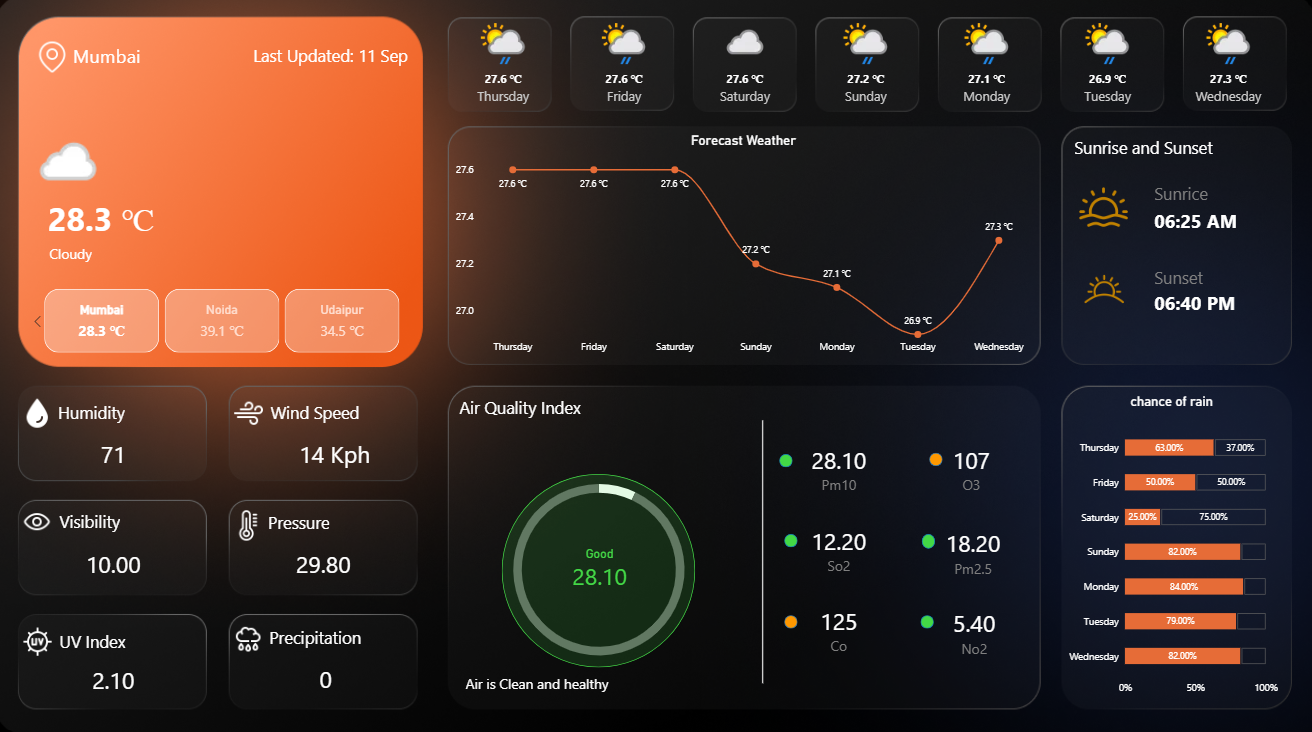

Layout of this report page (visuals, bound fields, positions):
{"tool":"powerbi","page":{"name":"Page 1","canvas":[1920,1080],"ordinal":0},"visuals":[{"type":"donutChart","fields":{"Y":["Sum(Current.current.air_quality.pm10)","_Measures.Left_Value_Pm10"]},"box":[684.6,665,386,340],"z":0},{"type":"shape","box":[737,695,280,280],"z":1000},{"type":"advancedSlicerVisual","fields":{"Values":["Locations.location.name"]},"box":[54.9,426.3,555.9,92.3],"z":2000},{"type":"shape","box":[79.1,272.5,232.9,101.1],"z":3000},{"type":"shape","box":[81.3,349.4,230.7,52.7],"z":4000},{"type":"shape","box":[352,63.8,249.5,50.3],"z":5000},{"type":"shape","box":[116.5,63.7,230.7,50],"z":6000},{"type":"image","box":[63.8,67.9,45.3,45],"z":7000},{"type":"cardVisual","fields":{"Data":["Min(Current.current.condition.icon)"]},"box":[50.5,109.9,116.5,178],"z":8000},{"type":"image","box":[41.7,584.5,45,45],"z":9000},{"type":"image","box":[347.2,584.5,45,45],"z":10000},{"type":"image","box":[41.7,742.7,43.9,43.9],"z":11000},{"type":"image","box":[347.2,747.1,43.9,43.9],"z":12000},{"type":"image","box":[22,916.3,85.7,43.9],"z":13000},{"type":"image","box":[347.2,911.9,43.9,43.9],"z":14000},{"type":"shape","box":[94.5,584.5,213.1,43.9],"z":15000},{"type":"shape","box":[402.1,584.5,213.1,43.9],"z":16000},{"type":"shape","box":[96.7,742.7,213.1,43.9],"z":17000},{"type":"shape","box":[397.7,742.7,214,45],"z":18000},{"type":"shape","box":[96.7,916.3,213.1,43.9],"z":19000},{"type":"shape","box":[399.9,909.7,213.1,43.9],"z":20000},{"type":"cardVisual","fields":{"Data":["Sum(Current.current.humidity)"]},"box":[94.5,628.4,160,75],"z":21000},{"type":"cardVisual","fields":{"Data":["_Measures.Wind_Speed"]},"box":[402.1,628.4,186,75],"z":22000},{"type":"cardVisual","fields":{"Data":["Sum(Current.current.vis_km)"]},"box":[94.5,786.6,160,75],"z":23000},{"type":"cardVisual","fields":{"Data":["Sum(Current.current.pressure_in)"]},"box":[397.7,786.6,160,75],"z":24000},{"type":"cardVisual","fields":{"Data":["Sum(Current.current.uv)"]},"box":[94.5,955.8,160,75],"z":25000},{"type":"cardVisual","fields":{"Data":["Sum(Current.current.precip_in)"]},"box":[402.1,953.6,160,75],"z":26000},{"type":"advancedSlicerVisual","fields":{"Values":["Forcast_Day.Day_Name"],"Label":["Sum(Forcast_Day.forecast.forecastday.day.avgtemp_c)"]},"box":[654.8,30.8,1219.5,138.4],"z":27000},{"type":"lineChart","title":"Forecast Weather","fields":{"Y":["Sum(Forcast_Day.forecast.forecastday.day.avgtemp_c)"],"Category":["Forecast_Day.Day_Name"]},"box":[670,201,833.6,325.1],"z":28000},{"type":"shape","box":[1565.4,201.4,213.4,43.9],"z":29000},{"type":"shape","box":[1681.1,295.1,181.5,63.8],"z":30000},{"type":"shape","box":[1681.1,414.8,181.5,63.8],"z":31000},{"type":"shape","box":[1681.1,257.3,181.5,63.8],"z":32000},{"type":"shape","box":[1681.1,378.9,181.5,63.8],"z":33000},{"type":"image","box":[1573.4,273.2,70,70],"z":34000},{"type":"image","box":[1571.4,388.9,75.8,75.8],"z":35000},{"type":"hundredPercentStackedBarChart","title":"chance of rain ","fields":{"Category":["Forecast_Day.Day_Name"],"Y":["Sum(Forecast_Day.forecast.forecastday.day.daily_chance_of_rain)","_Measures.Left_Value_Rain"]},"box":[1552.7,579.1,307.6,439.7],"z":36000},{"type":"shape","box":[675,577.3,213.5,43.4],"z":37000},{"type":"cardVisual","fields":{"Data":["Sum(Current.current.air_quality.pm10)"]},"box":[1154.6,647.9,140,80],"z":38000},{"type":"cardVisual","fields":{"Data":["Sum(Current.current.air_quality.o3)"]},"box":[1346,647.9,140,80],"z":39000},{"type":"cardVisual","fields":{"Data":["Sum(Current.current.air_quality.so2)"]},"box":[1154.6,765.8,140,80],"z":40000},{"type":"cardVisual","fields":{"Data":["Sum(Current.current.air_quality.pm2_5)"]},"box":[1346,769.7,145,80],"z":41000},{"type":"cardVisual","fields":{"Data":["Sum(Current.current.air_quality.co)"]},"box":[1154.6,881.9,140,80],"z":42000},{"type":"cardVisual","fields":{"Data":["Sum(Current.current.air_quality.no2)"]},"box":[1349.9,885.7,141.2,80],"z":43000},{"type":"shape","box":[1139.1,665.3,19.3,19.3],"z":44000},{"type":"shape","box":[1145,782,19.3,19.3],"z":45000},{"type":"shape","box":[1145,899,19.3,19.3],"z":46000},{"type":"shape","box":[1355,665,19.3,19.3],"z":47000},{"type":"shape","box":[1344.1,781.3,19.3,21.3],"z":48000},{"type":"shape","box":[1342.1,899.3,19.3,19.3],"z":49000},{"type":"shape","box":[1025,616.9,179.9,381],"z":50000},{"type":"cardVisual","fields":{"Data":["Sum(Current.current.air_quality.pm10)"]},"box":[810.3,800.6,135,77],"z":51000},{"type":"shape","box":[684.6,976.6,417.7,42.5],"z":52000}]}

Visuals, with their boxes in screenshot pixels (x1, y1, x2, y2), scaled from the page's 1920x1080 canvas onto the 1312x732 screenshot:
donutChart - Sum(Current.current.air_quality.pm10) x _Measures.Left_Value_Pm10: BBox(468, 451, 732, 681)
shape: BBox(504, 471, 695, 661)
advancedSlicerVisual - Locations.location.name: BBox(38, 289, 417, 351)
shape: BBox(54, 185, 213, 253)
shape: BBox(56, 237, 213, 273)
shape: BBox(241, 43, 411, 77)
shape: BBox(80, 43, 237, 77)
image: BBox(44, 46, 75, 77)
cardVisual - Min(Current.current.condition.icon): BBox(35, 74, 114, 195)
image: BBox(28, 396, 59, 427)
image: BBox(237, 396, 268, 427)
image: BBox(28, 503, 58, 533)
image: BBox(237, 506, 267, 536)
image: BBox(15, 621, 74, 651)
image: BBox(237, 618, 267, 648)
shape: BBox(65, 396, 210, 426)
shape: BBox(275, 396, 420, 426)
shape: BBox(66, 503, 212, 533)
shape: BBox(272, 503, 418, 534)
shape: BBox(66, 621, 212, 651)
shape: BBox(273, 617, 419, 646)
cardVisual - Sum(Current.current.humidity): BBox(65, 426, 174, 477)
cardVisual - _Measures.Wind_Speed: BBox(275, 426, 402, 477)
cardVisual - Sum(Current.current.vis_km): BBox(65, 533, 174, 584)
cardVisual - Sum(Current.current.pressure_in): BBox(272, 533, 381, 584)
cardVisual - Sum(Current.current.uv): BBox(65, 648, 174, 699)
cardVisual - Sum(Current.current.precip_in): BBox(275, 646, 384, 697)
advancedSlicerVisual - Forcast_Day.Day_Name x Sum(Forcast_Day.forecast.forecastday.day.avgtemp_c): BBox(447, 21, 1281, 115)
"Forecast Weather" lineChart: BBox(458, 136, 1027, 357)
shape: BBox(1070, 137, 1216, 166)
shape: BBox(1149, 200, 1273, 243)
shape: BBox(1149, 281, 1273, 324)
shape: BBox(1149, 174, 1273, 218)
shape: BBox(1149, 257, 1273, 300)
image: BBox(1075, 185, 1123, 233)
image: BBox(1074, 264, 1126, 315)
"chance of rain " hundredPercentStackedBarChart: BBox(1061, 393, 1271, 691)
shape: BBox(461, 391, 607, 421)
cardVisual - Sum(Current.current.air_quality.pm10): BBox(789, 439, 885, 493)
cardVisual - Sum(Current.current.air_quality.o3): BBox(920, 439, 1015, 493)
cardVisual - Sum(Current.current.air_quality.so2): BBox(789, 519, 885, 573)
cardVisual - Sum(Current.current.air_quality.pm2_5): BBox(920, 522, 1019, 576)
cardVisual - Sum(Current.current.air_quality.co): BBox(789, 598, 885, 652)
cardVisual - Sum(Current.current.air_quality.no2): BBox(922, 600, 1019, 655)
shape: BBox(778, 451, 792, 464)
shape: BBox(782, 530, 796, 543)
shape: BBox(782, 609, 796, 622)
shape: BBox(926, 451, 939, 464)
shape: BBox(918, 530, 932, 544)
shape: BBox(917, 610, 930, 623)
shape: BBox(700, 418, 823, 676)
cardVisual - Sum(Current.current.air_quality.pm10): BBox(554, 543, 646, 595)
shape: BBox(468, 662, 753, 691)
